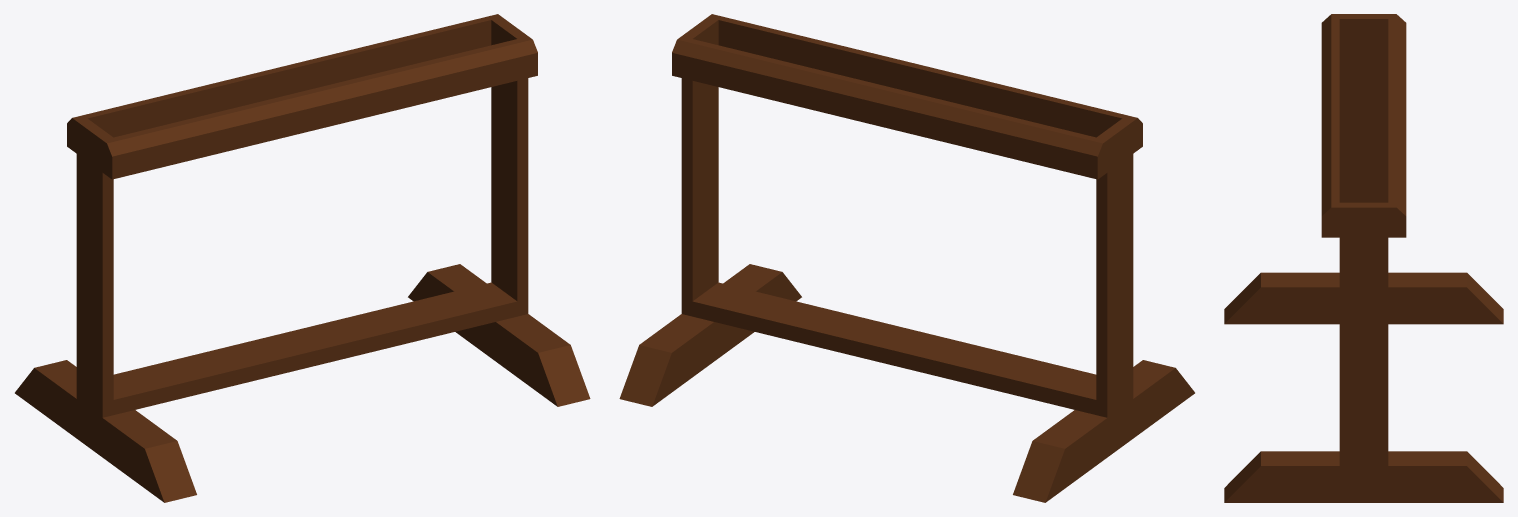
Rendered from Weapon box.fbx.
3 views of the same model, side by side, from view 1: azimuth 30°, elevation 25°; view 2: azimuth 150°, elevation 25°; view 3: azimuth 270°, elevation 25° (orthographic). The views are drawn at different scales.
Parts seen in each view (by area): view 1: Weapon Box; view 2: Weapon Box; view 3: Weapon Box.
Boxes of the visible parts, x1,y1,x2,y2 form: Weapon Box: (15,14,590,502); Weapon Box: (619,14,1194,502); Weapon Box: (1224,14,1503,502).
Bounding box in the file's own units: 0.7332 × 0.5219 × 0.4476.
